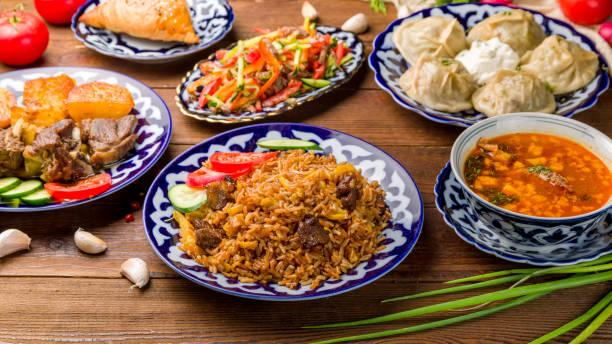Braised Crucian Carp: (143, 122, 418, 299), (369, 2, 605, 129), (435, 111, 609, 266), (2, 64, 175, 214), (176, 22, 364, 123), (71, 0, 229, 63)
